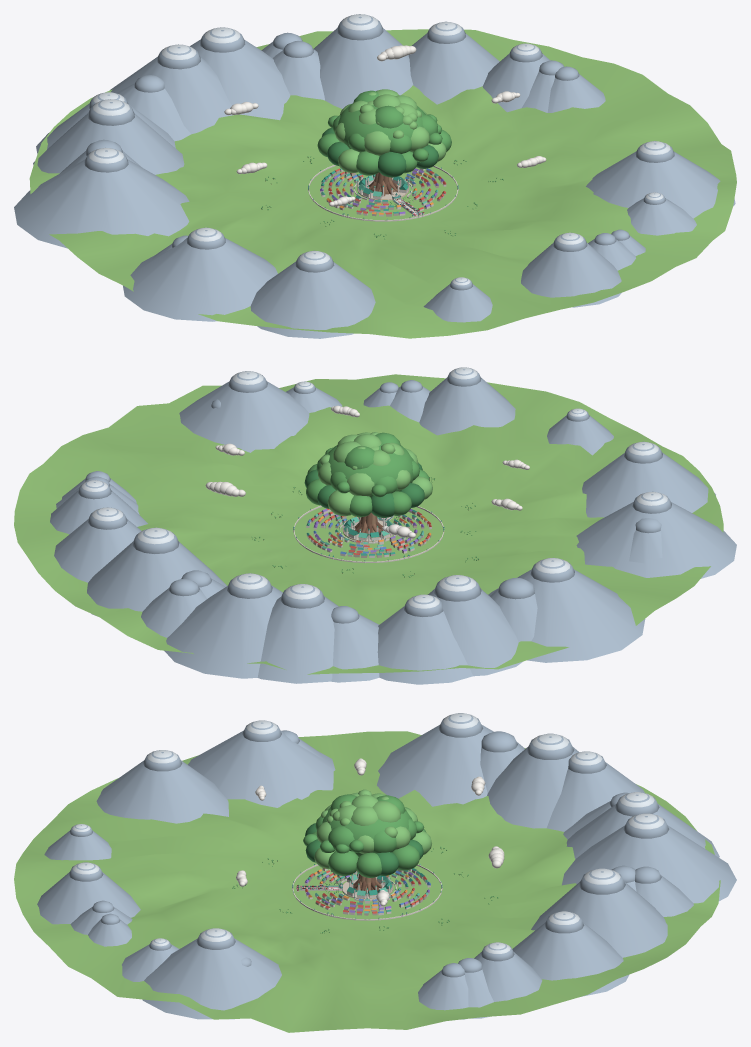
Rendered from epilogue_coronation.glb.
3 views of the same model, one above another, from view 1: azimuth 30°, elevation 25°; view 2: azimuth 150°, elevation 25°; view 3: azimuth 270°, elevation 25° (orthographic).
Parts seen in each view (by area): view 1: land_grass, far_mount_far, far_mount_l_far, worldtree_eld_leaf, worldtree_eld_leaf_l, kingdom_erk_wall, far_white_far, worldtree_eld_leaf_d, kingdom_erk_wall_d; view 2: far_mount_far, land_grass, far_mount_l_far, worldtree_eld_leaf, worldtree_eld_leaf_l, kingdom_erk_wall, far_white_far, worldtree_eld_leaf_d, kingdom_erk_wall_d; view 3: land_grass, far_mount_far, worldtree_eld_leaf, far_mount_l_far, worldtree_eld_leaf_l, kingdom_erk_wall, far_white_far, worldtree_eld_leaf_d, kingdom_erk_wall_d.
Boxes of the visible parts, x1,y1,x2,y2 form: land_grass: [29, 29, 736, 338]; far_mount_far: [14, 14, 735, 338]; far_mount_l_far: [89, 14, 670, 285]; worldtree_eld_leaf: [317, 90, 451, 175]; worldtree_eld_leaf_l: [335, 89, 446, 173]; kingdom_erk_wall: [308, 165, 458, 221]; far_white_far: [224, 45, 546, 206]; worldtree_eld_leaf_d: [322, 127, 438, 177]; kingdom_erk_wall_d: [321, 170, 441, 216]; far_mount_far: [50, 367, 736, 684]; land_grass: [14, 374, 723, 674]; far_mount_l_far: [81, 367, 667, 608]; worldtree_eld_leaf: [306, 432, 429, 517]; worldtree_eld_leaf_l: [318, 432, 432, 516]; kingdom_erk_wall: [293, 505, 444, 562]; far_white_far: [205, 405, 529, 538]; worldtree_eld_leaf_d: [304, 463, 424, 517]; kingdom_erk_wall_d: [311, 511, 431, 557]; land_grass: [14, 731, 720, 1032]; far_mount_far: [37, 713, 736, 1019]; worldtree_eld_leaf: [303, 794, 426, 877]; far_mount_l_far: [72, 713, 664, 953]; worldtree_eld_leaf_l: [314, 789, 431, 868]; kingdom_erk_wall: [292, 864, 442, 920]; far_white_far: [236, 758, 504, 906]; worldtree_eld_leaf_d: [305, 823, 423, 875]; kingdom_erk_wall_d: [308, 869, 427, 915].
Bounding box in the file's own units: 3012 × 456 × 3069.
